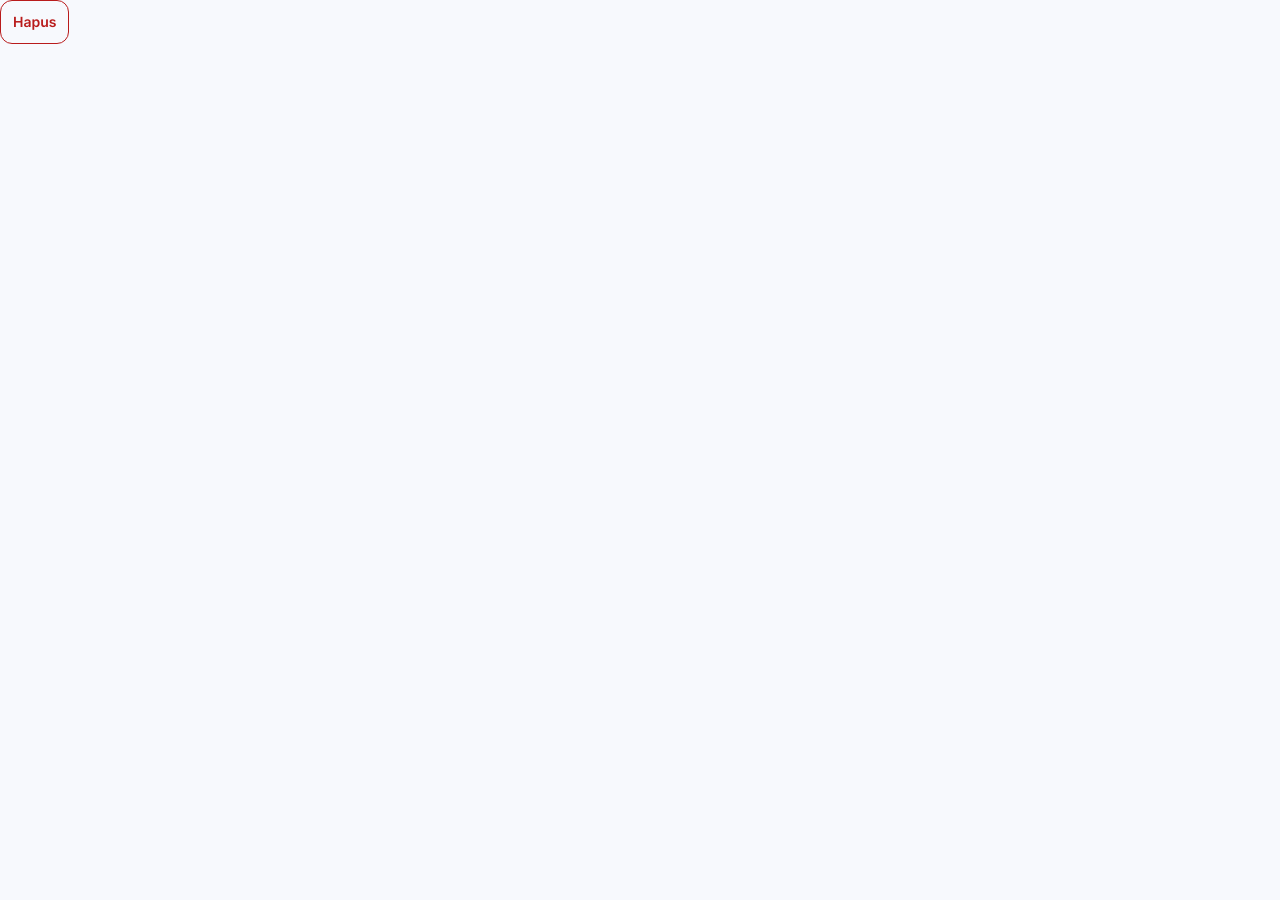
Test: ConfirmDelete › closes on Batal and on Escape without deleting
The image size is (1280, 900).
Click the button with aria-label "Hapus SOP": (35, 22) [0,0,70,44]
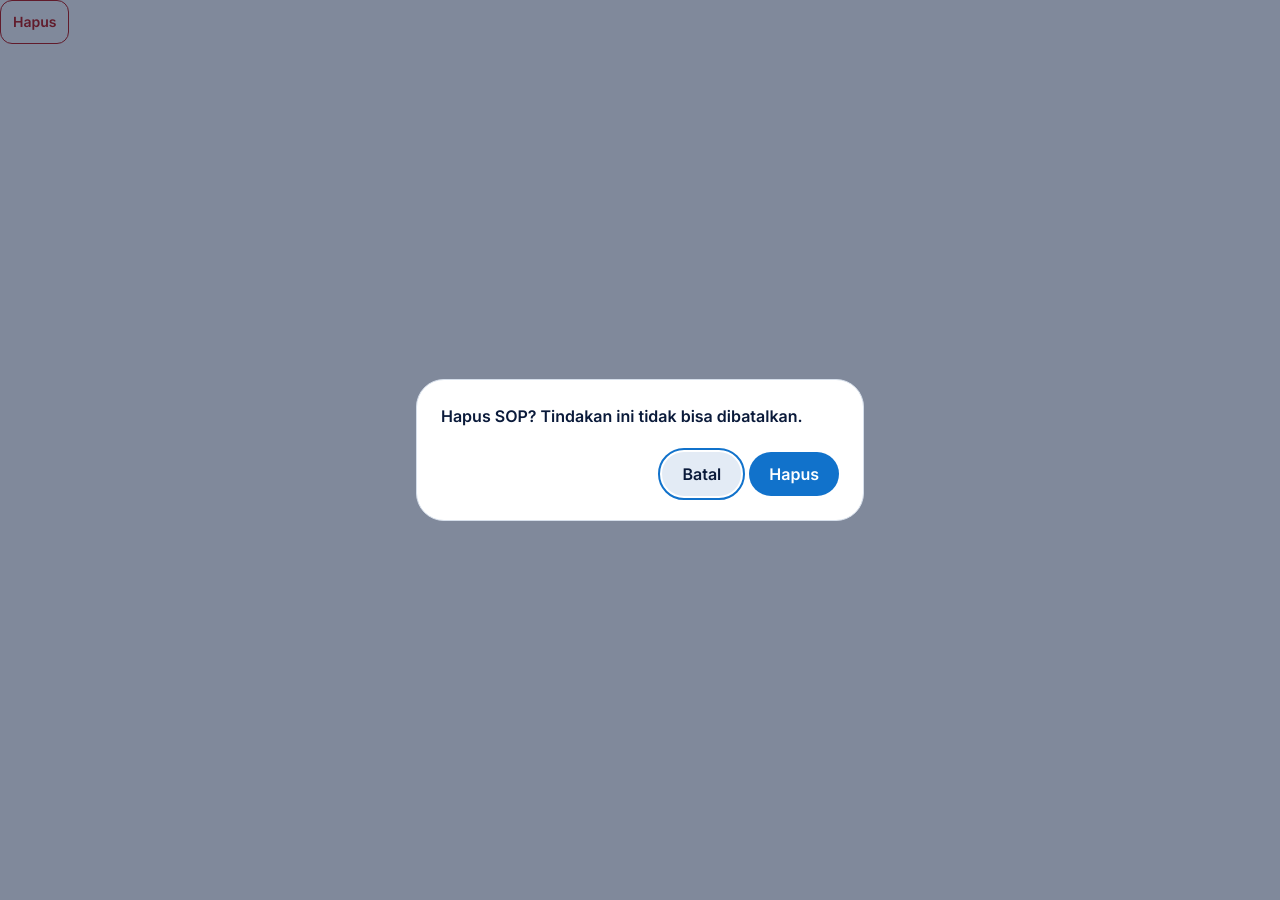
Click the button "Batal": (702, 474) [662,452,741,496]
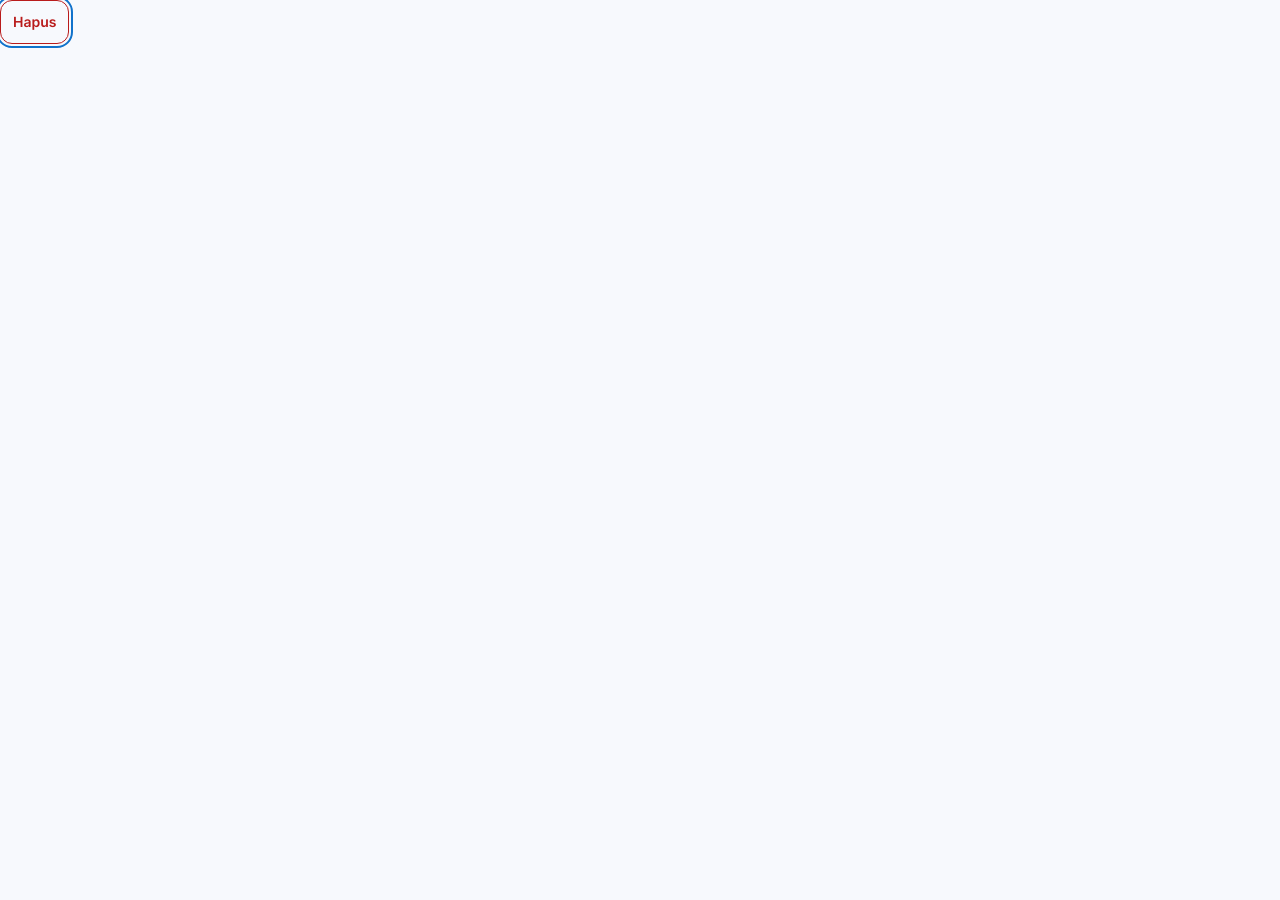
Expected: the dialog is gone
Click the button with aria-label "Hapus SOP": (35, 22) [0,0,70,44]
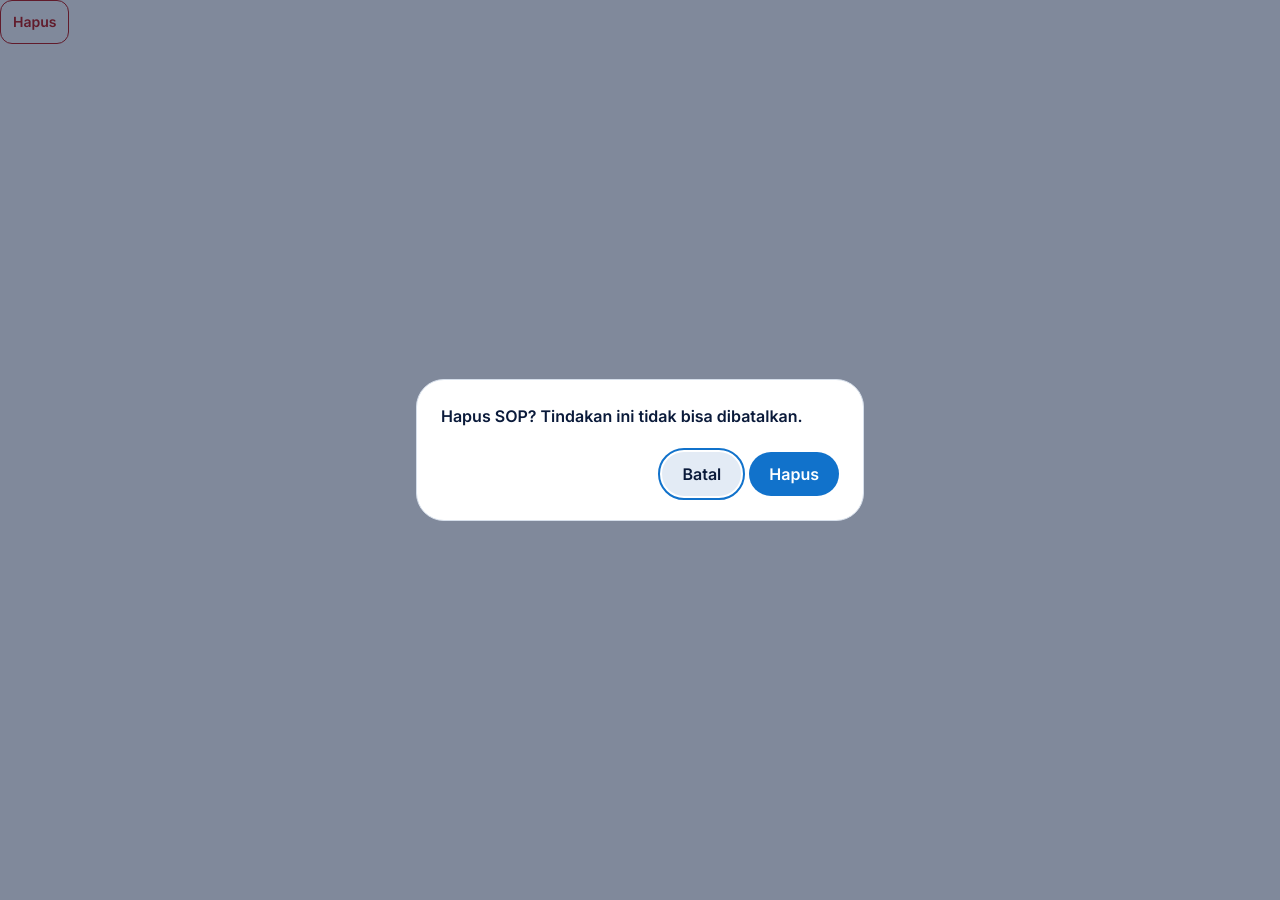
Press Escape
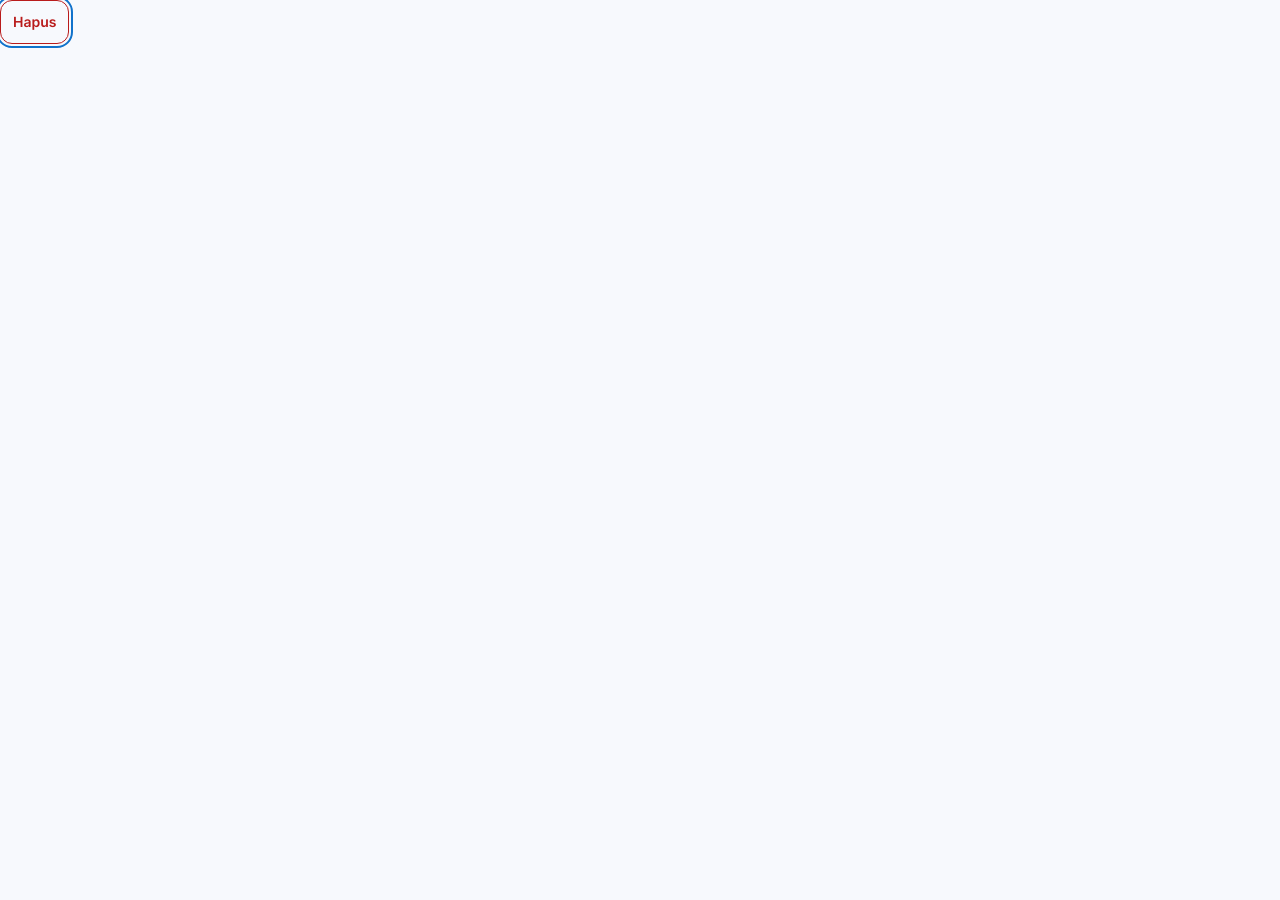
Expected: the dialog is gone
